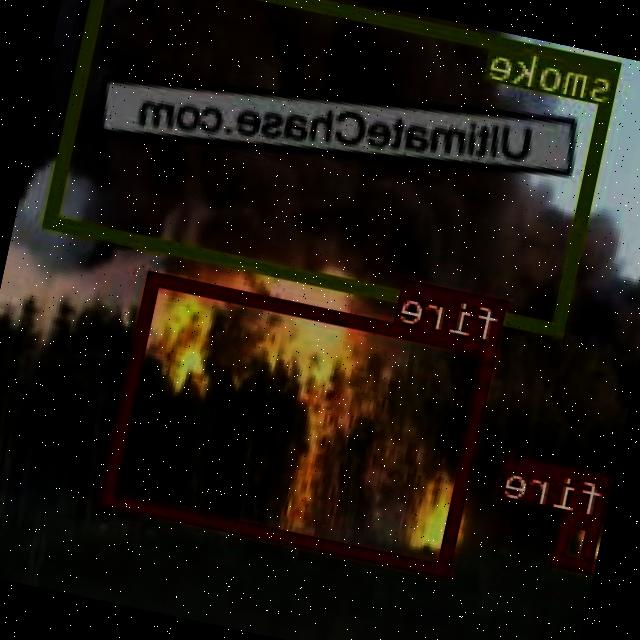fire: (102, 270, 500, 577), (554, 510, 604, 570)
smoke: (45, 0, 622, 335)
